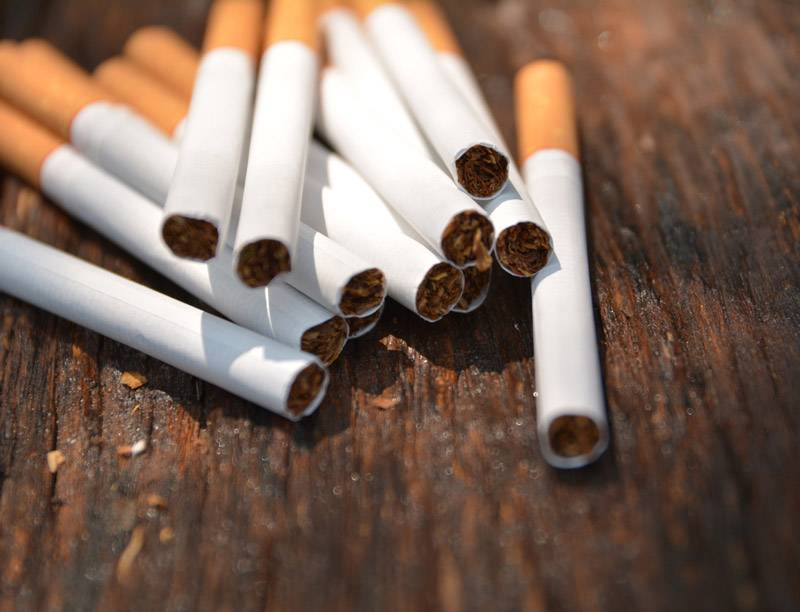cigarette: (512, 56, 627, 473)
